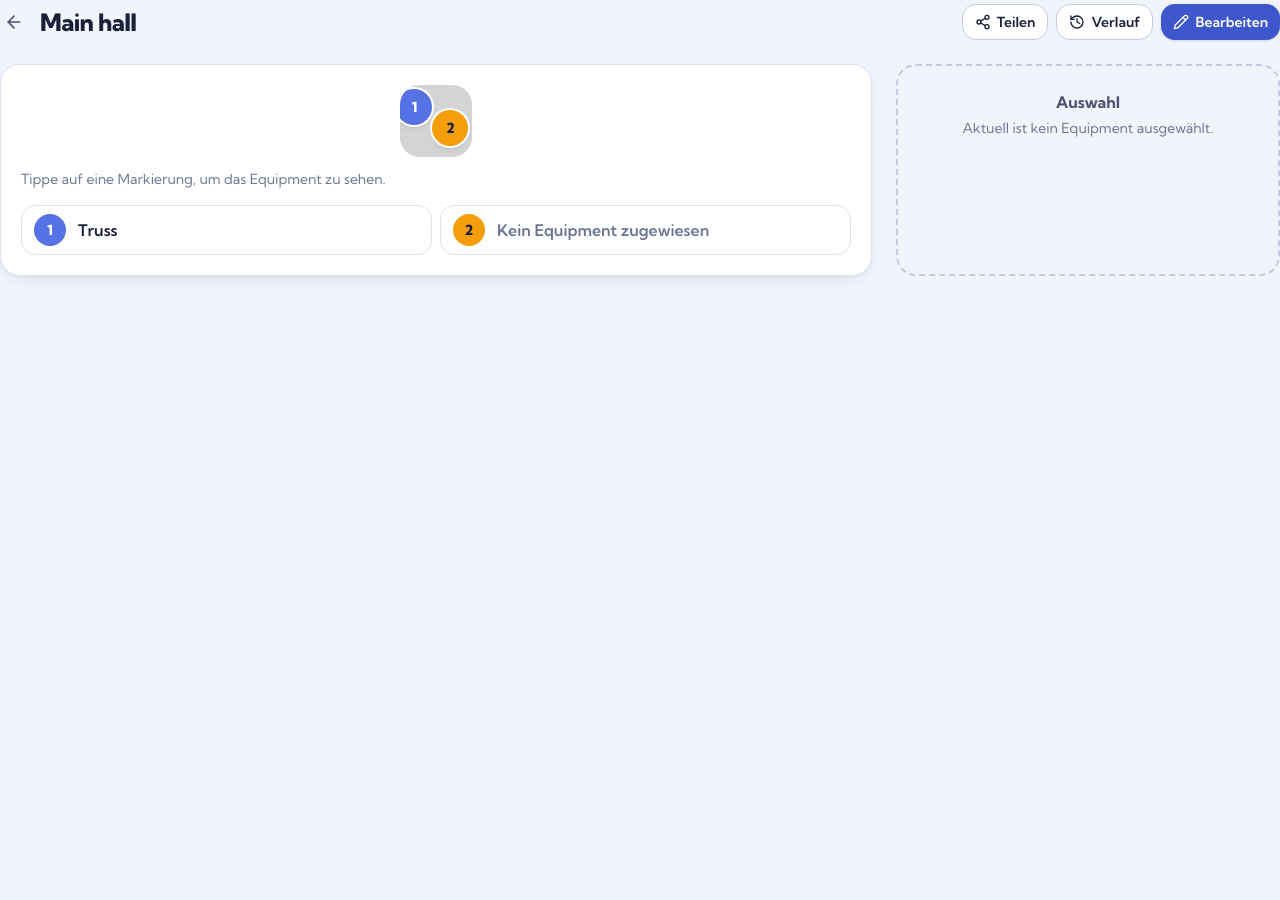
Test: PlaceView (owner) › opens the share dialog
Click the button "Teilen": (1005, 22) [962,4,1048,40]
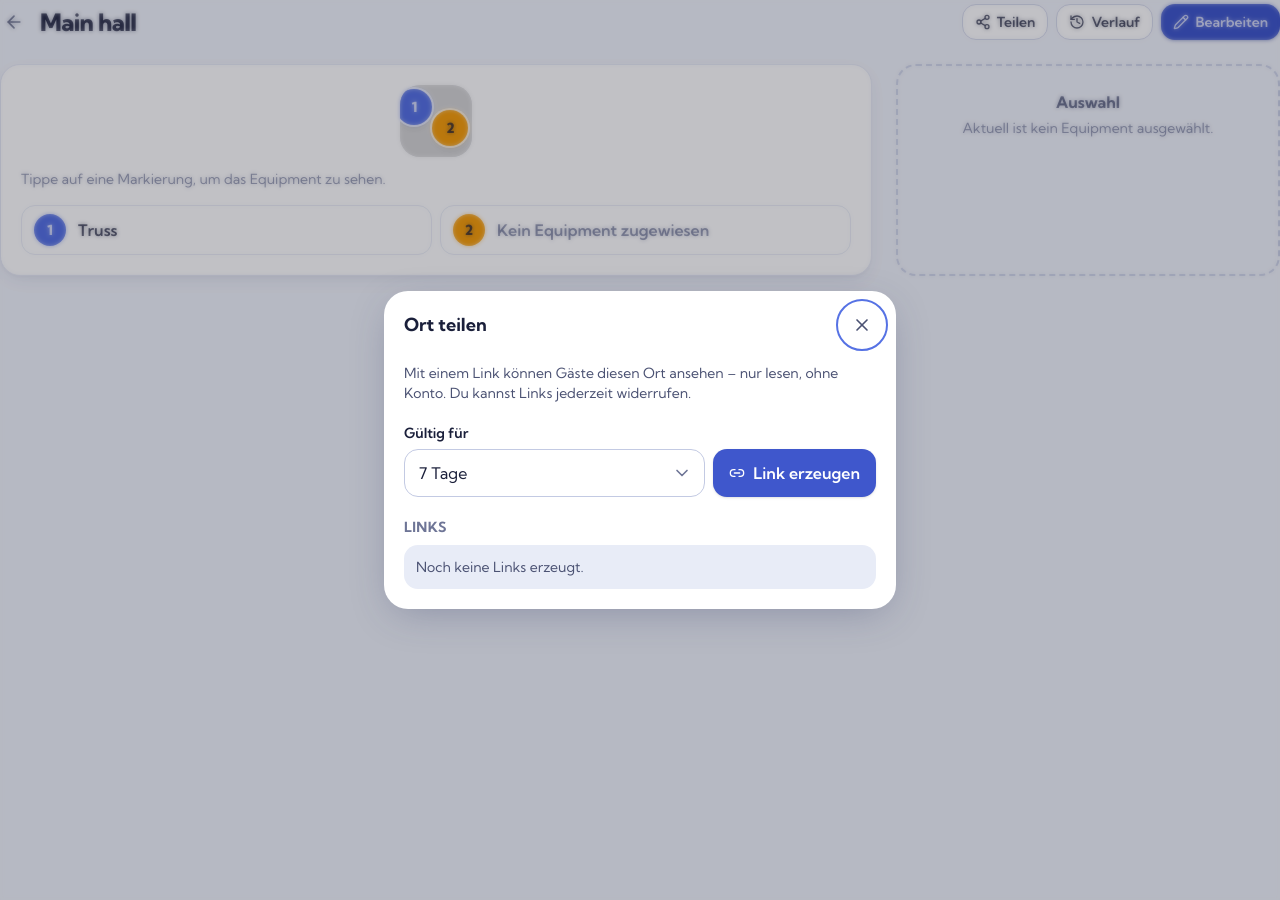
Expected: the heading "Ort teilen" is shown, [404,311,487,339]
